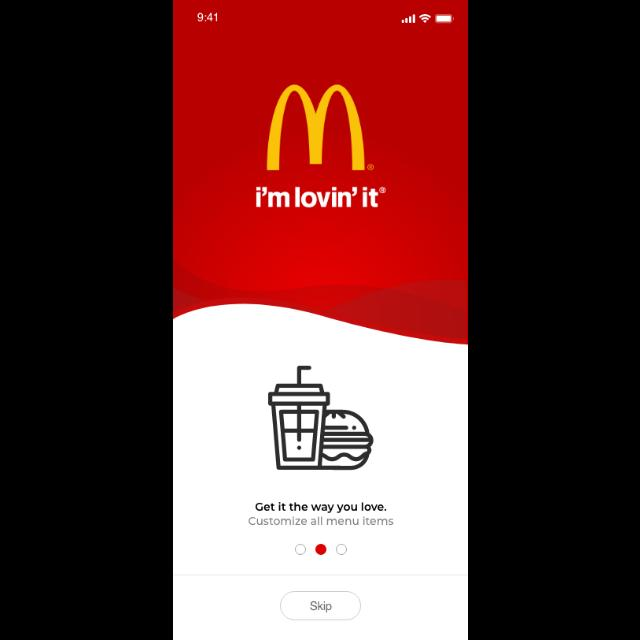image: (256, 86, 386, 208), (268, 366, 374, 470)
pageindicator: (295, 543, 347, 555)
text: (256, 502, 386, 514), (248, 516, 394, 526)
textbutton: (280, 590, 360, 620)
uppertaskbar: (196, 13, 454, 24)
